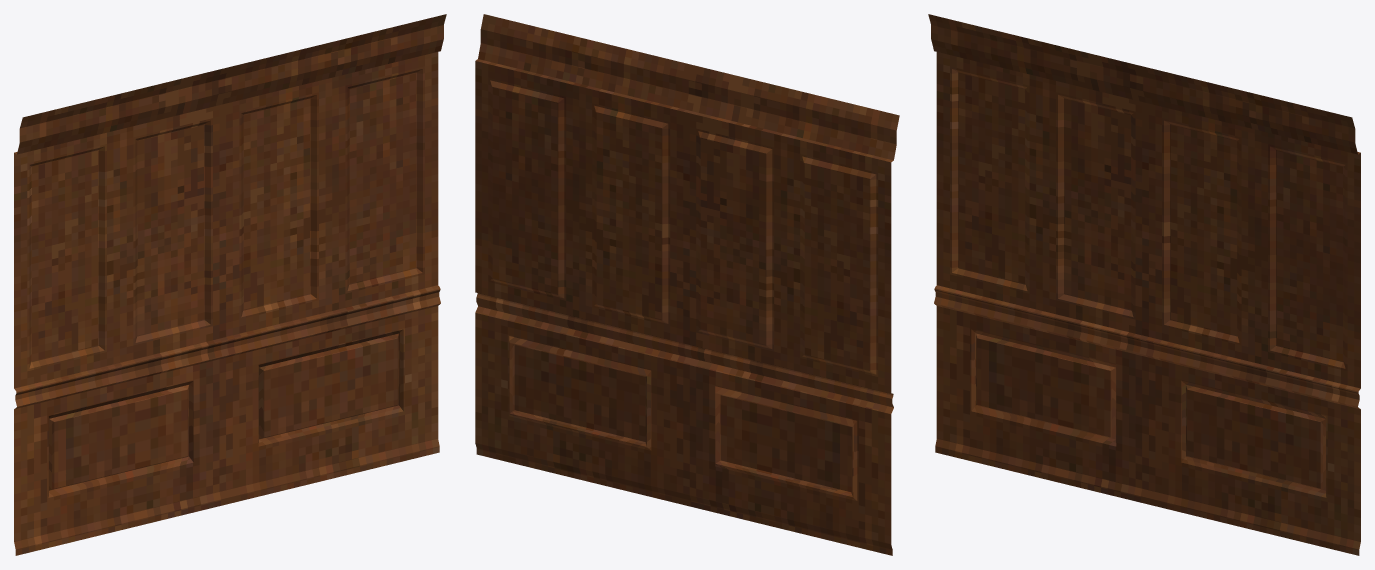
The model's file is Wall.Wood.glb.
3 views of the same model, side by side, from view 1: azimuth 30°, elevation 25°; view 2: azimuth 150°, elevation 25°; view 3: azimuth 330°, elevation 25° (orthographic).
Visible parts, largest first — view 1: Wall.Wood; view 2: Wall.Wood; view 3: Wall.Wood.
Part boxes in pixels (x1,y1,x2,y2): Wall.Wood: (14,14,446,555); Wall.Wood: (475,14,899,555); Wall.Wood: (928,14,1360,555).
Bounding box in the file's own units: 3 × 3 × 0.1327.
1 material, 1 textured.
